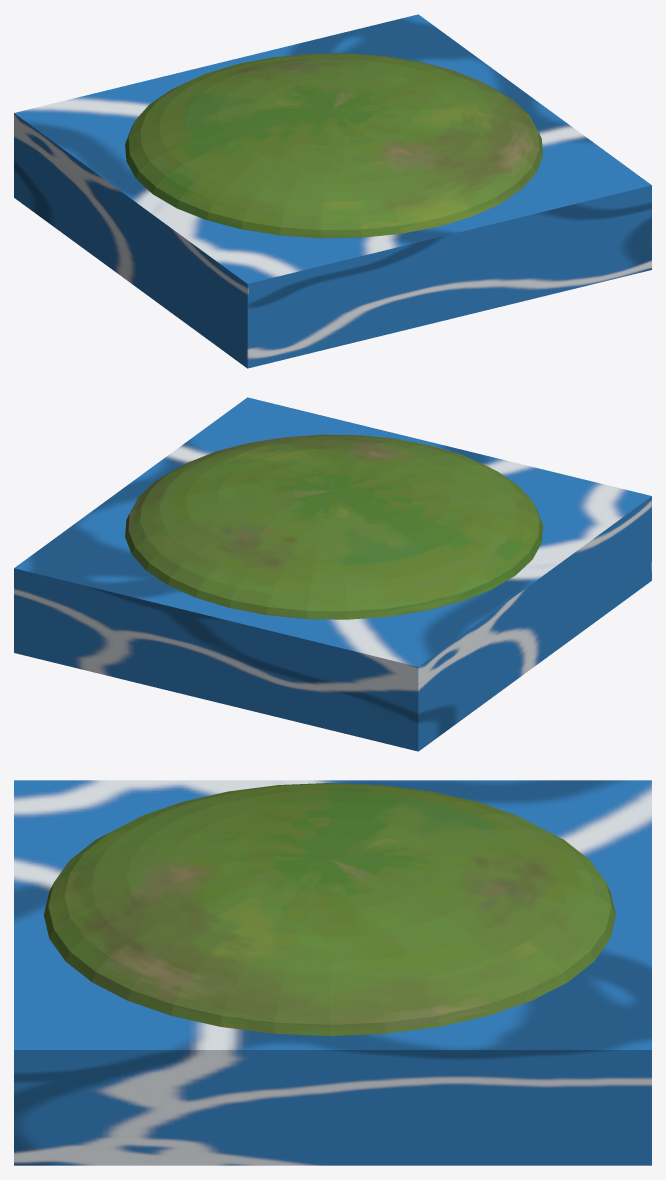
Rendered from basic_island.glb.
The picture shows the model from 3 angles, top to bottom: view 1: azimuth 30°, elevation 25°; view 2: azimuth 150°, elevation 25°; view 3: azimuth 270°, elevation 25°; orthographic projection. The views are drawn at different scales.
Visible parts, largest first — view 1: Cube.001; view 2: Cube.001; view 3: Cube.001.
Part boxes in pixels (left/top/right/bottom): Cube.001: left=14, top=14, right=651, bottom=368; Cube.001: left=14, top=397, right=651, bottom=751; Cube.001: left=14, top=780, right=651, bottom=1165.
Bounding box in the file's own units: 10 × 2.97 × 10.
Materials: 2 (2 with a texture image).
